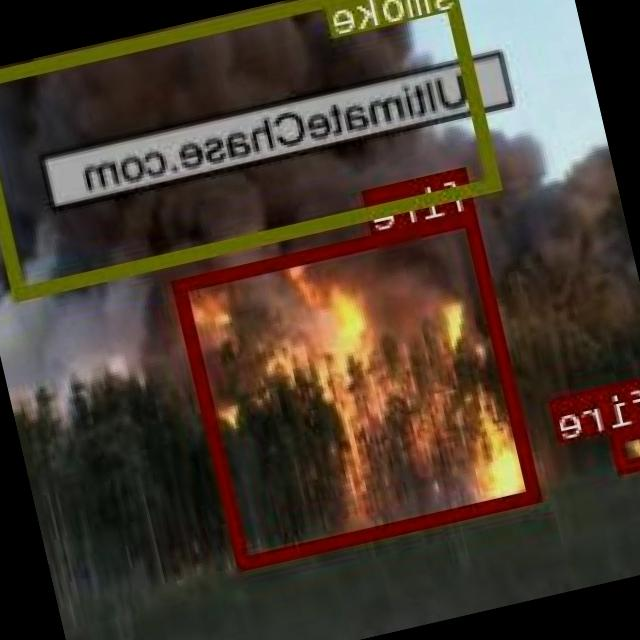fire: (175, 210, 544, 568), (611, 416, 640, 469)
smoke: (0, 0, 504, 297)
